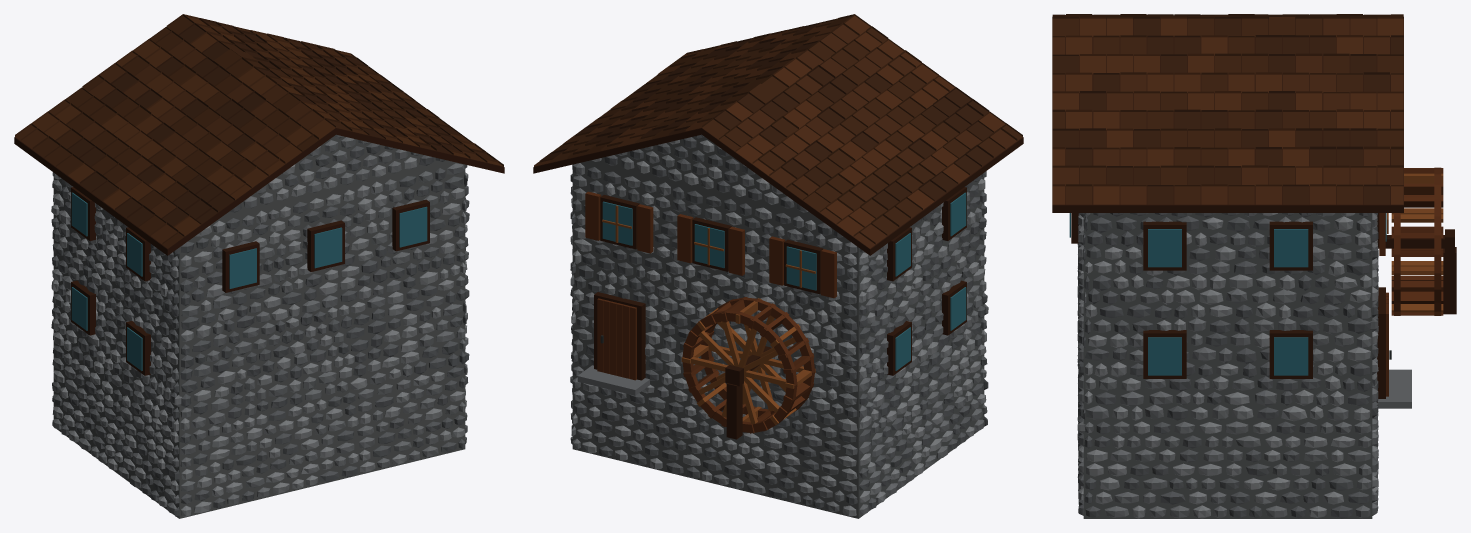
Rendered from Mulino_Ciottoli_v2_Basamento.obj.
The picture shows the model from 3 angles, left to right: view 1: azimuth 30°, elevation 25°; view 2: azimuth 150°, elevation 25°; view 3: azimuth 270°, elevation 25°; orthographic projection. The views are drawn at different scales.
Parts seen in each view (by area): view 1: RoundedCobblestones, WoodRoofShingles, StoneBuilding, BasementCobblestones, BasementCore, WoodRoof, RearGlass, StoneGables, RearFrame, SideFrame, SideGlass; view 2: WoodRoofShingles, RoundedCobblestones, BasementCobblestones, StoneBuilding, BasementCore, Shutter, WheelRims, WheelSpokes, WoodRoof, WheelPaddles, Glass, DoorPlanks (+8 smaller); view 3: WoodRoofShingles, RoundedCobblestones, StoneBuilding, BasementCobblestones, BasementCore, WoodRoof, SideGlass, WheelPaddles, SideFrame, WheelRims, Threshold, DoorFrame (+2 smaller).
Part boxes in pixels (left/top/right/bottom): RoundedCobblestones: left=51, top=134, right=469, bottom=432; WoodRoofShingles: left=15, top=14, right=503, bottom=248; StoneBuilding: left=53, top=161, right=465, bottom=433; BasementCobblestones: left=52, top=345, right=468, bottom=517; BasementCore: left=53, top=342, right=465, bottom=518; WoodRoof: left=14, top=128, right=504, bottom=255; RearGlass: left=229, top=206, right=427, bottom=288; StoneGables: left=223, top=136, right=448, bottom=215; RearFrame: left=222, top=199, right=429, bottom=292; SideFrame: left=71, top=187, right=150, bottom=375; SideGlass: left=71, top=192, right=142, bottom=370; WoodRoofShingles: left=534, top=14, right=1022, bottom=248; RoundedCobblestones: left=570, top=134, right=988, bottom=430; BasementCobblestones: left=570, top=344, right=988, bottom=516; StoneBuilding: left=572, top=161, right=984, bottom=433; BasementCore: left=572, top=343, right=984, bottom=518; Shutter: left=585, top=191, right=836, bottom=298; WheelRims: left=682, top=297, right=815, bottom=432; WheelSpokes: left=690, top=315, right=803, bottom=424; WoodRoof: left=533, top=128, right=1023, bottom=255; WheelPaddles: left=681, top=297, right=815, bottom=433; Glass: left=602, top=201, right=816, bottom=290; DoorPlanks: left=597, top=298, right=636, bottom=380; WoodRoofShingles: left=1052, top=14, right=1403, bottom=204; RoundedCobblestones: left=1077, top=213, right=1378, bottom=421; StoneBuilding: left=1083, top=213, right=1372, bottom=420; BasementCobblestones: left=1077, top=333, right=1378, bottom=518; BasementCore: left=1083, top=421, right=1372, bottom=518; WoodRoof: left=1052, top=17, right=1403, bottom=212; SideGlass: left=1148, top=229, right=1308, bottom=375; WheelPaddles: left=1391, top=168, right=1443, bottom=315; SideFrame: left=1143, top=221, right=1312, bottom=378; WheelRims: left=1394, top=167, right=1441, bottom=315; Threshold: left=1378, top=369, right=1411, bottom=408; DoorFrame: left=1377, top=287, right=1385, bottom=402.
Bounding box in the file's own units: 9.9 × 10.34 × 8.97.
